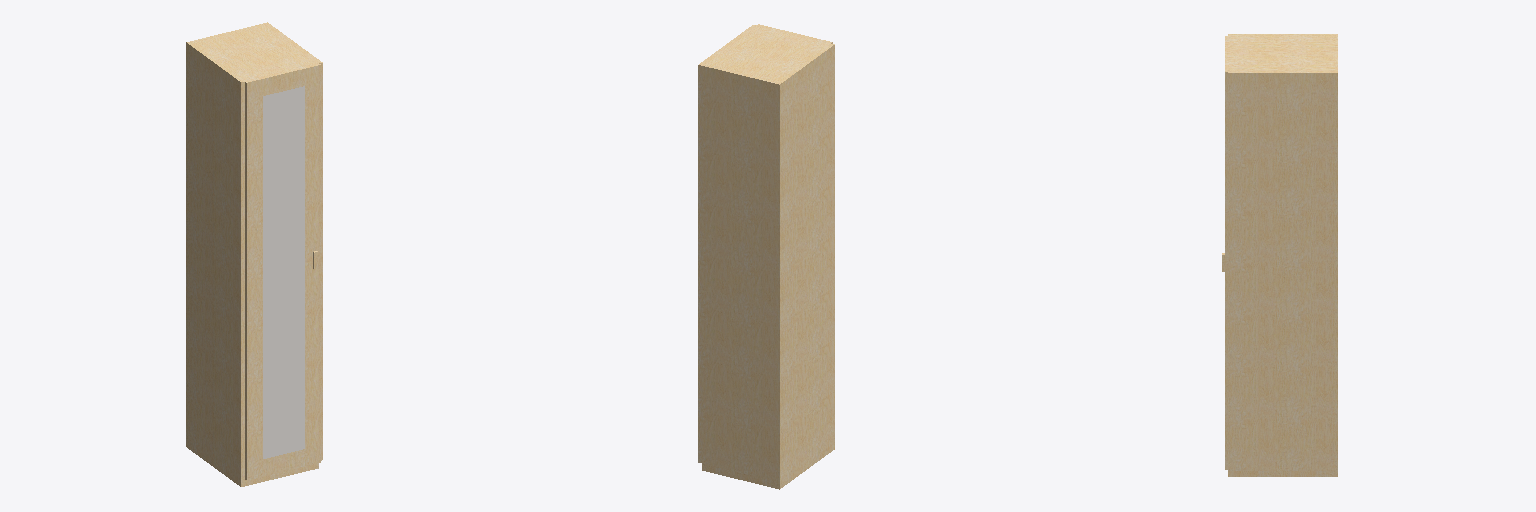
The picture shows the model from 3 angles: view 1: azimuth 30°, elevation 25°; view 2: azimuth 150°, elevation 25°; view 3: azimuth 270°, elevation 25°; orthographic projection.
Parts seen in each view (by area): view 1: Mesh1 Wardrobe1_1 Model; view 2: Mesh1 Wardrobe1_1 Model; view 3: Mesh1 Wardrobe1_1 Model.
Part boxes in pixels (x1,y1,x2,y2): Mesh1 Wardrobe1_1 Model: (186,22,322,486); Mesh1 Wardrobe1_1 Model: (698,24,834,489); Mesh1 Wardrobe1_1 Model: (1222,34,1337,476).
Bounding box in the file's own units: 19.63 × 93.12 × 24.12.
Materials: 3 (1 with a texture image).